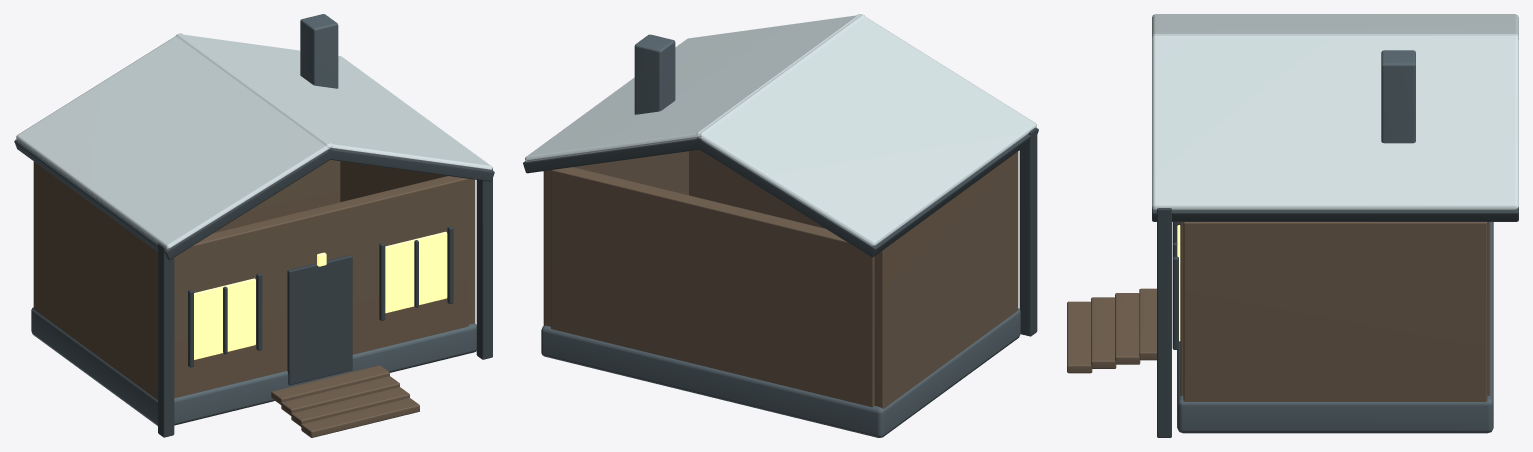
The model's file is shelter.glb.
3 renders of one model, left to right at view 1: azimuth 30°, elevation 25°; view 2: azimuth 150°, elevation 25°; view 3: azimuth 270°, elevation 25°, orthographic. The views are drawn at different scales.
Visible parts, largest first — view 1: Roof_snow, Wall.002, Wall, Roof_snow.001, Foundation, Door, Window_warm.001, Window_warm, Wall.001, Roof.001, Wall.003, Frame.004 (+11 smaller); view 2: Wall.003, Roof_snow, Wall, Roof_snow.001, Foundation, Wall.001, Roof.001, Frame.004, Wall.002, Chimney, Roof.002; view 3: Roof_snow.001, Wall.001, Foundation, Roof_snow, Roof.002, Frame.005, Chimney, Steps.001, Steps.003, Steps.002, Steps, Wall.002 (+2 smaller).
Boxes of the visible parts, x1,y1,x2,y2 form: Roof_snow: (16,33,333,249); Wall.002: (174,176,468,398); Wall: (33,161,157,399); Roof_snow.001: (176,34,492,170); Foundation: (31,307,476,425); Door: (287,255,352,385); Window_warm.001: (385,231,447,313); Window_warm: (194,278,255,359); Wall.001: (340,161,475,324); Roof.001: (14,139,334,259); Wall.003: (213,160,340,233); Frame.004: (158,243,174,437); Wall.003: (551,167,874,407); Roof_snow: (696,14,1036,246); Wall: (874,151,1018,408); Roof_snow.001: (525,14,865,161); Foundation: (541,308,1020,437); Wall.001: (543,151,688,326); Roof.001: (695,128,1038,257); Frame.004: (1019,127,1037,336); Wall.002: (689,150,824,228); Chimney: (634,34,675,114); Roof.002: (523,138,702,173); Roof_snow.001: (1152,33,1518,209); Wall.001: (1183,222,1487,401); Foundation: (1177,222,1493,433); Roof_snow: (1152,14,1518,39); Roof.002: (1152,207,1518,221); Frame.005: (1157,208,1171,437); Chimney: (1381,50,1415,143); Steps.001: (1115,293,1140,364); Steps.003: (1067,301,1092,373); Steps.002: (1091,297,1116,368); Steps: (1139,288,1156,360); Wall.002: (1180,222,1183,395).
Size of the model in its own units: 7.24 by 5.9 by 7.14.
